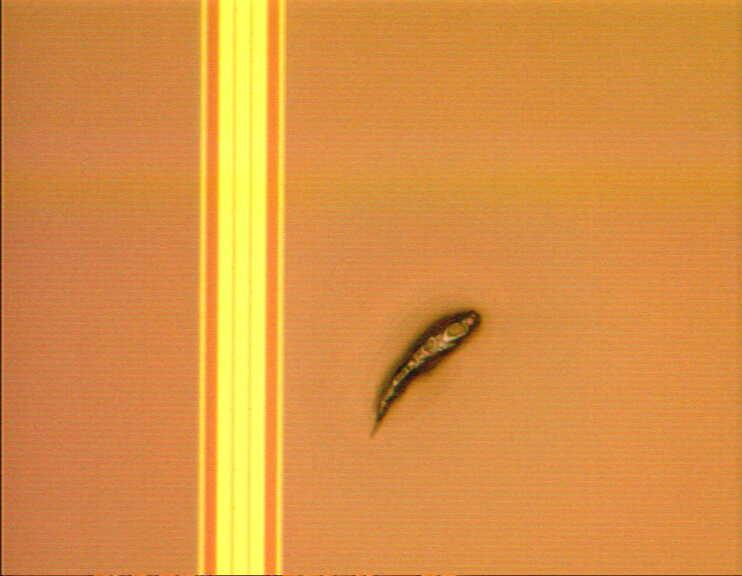PARTICLE: (349, 294, 493, 438)
